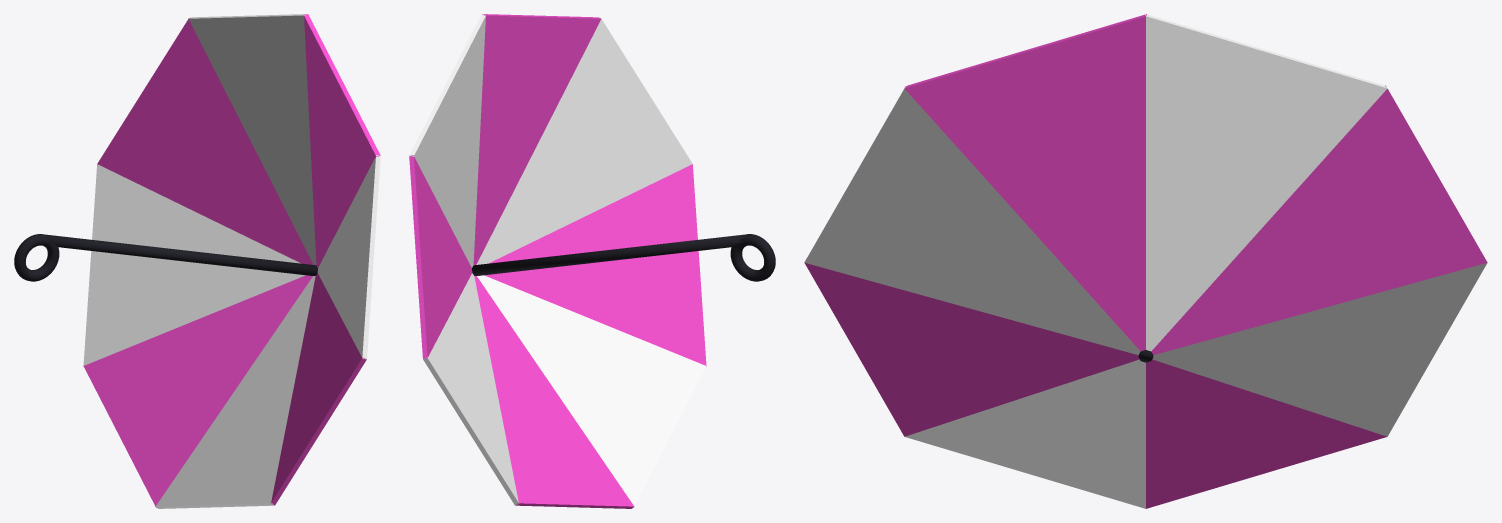
The model's file is Trash_Umbrella.fbx.
3 views of the same model, side by side, from view 1: azimuth 30°, elevation 25°; view 2: azimuth 150°, elevation 25°; view 3: azimuth 270°, elevation 25° (orthographic). The views are drawn at different scales.
Parts seen in each view (by area): view 1: Trash_Umbrella; view 2: Trash_Umbrella; view 3: Trash_Umbrella.
Boxes of the visible parts, bbox=[...] form: Trash_Umbrella: bbox=[14, 14, 380, 508]; Trash_Umbrella: bbox=[409, 14, 775, 508]; Trash_Umbrella: bbox=[804, 14, 1487, 508].
Bounding box in the file's own units: 0.7311 × 1.04 × 1.1.
